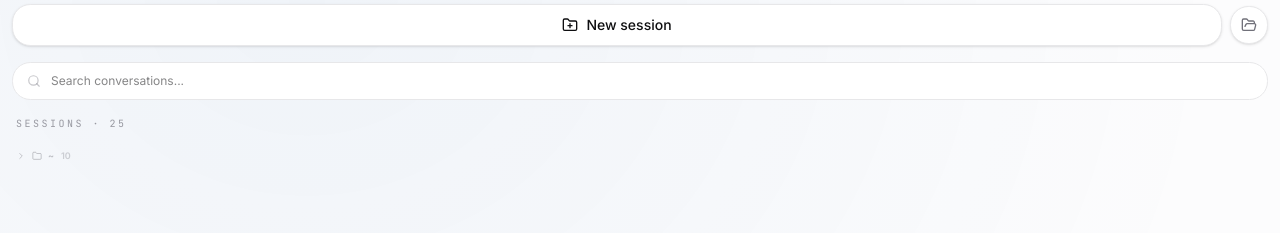
Test case: ConversationSearch — pagination (infinite scroll) › search matches sessions beyond the first page
# 'Session number 20' is past the initial 10, but search scans ALL sessions.
Type "number 20" into the field with placeholder "Search conversations..." at (652, 81), box x1=51 y1=73 x2=1253 y2=89
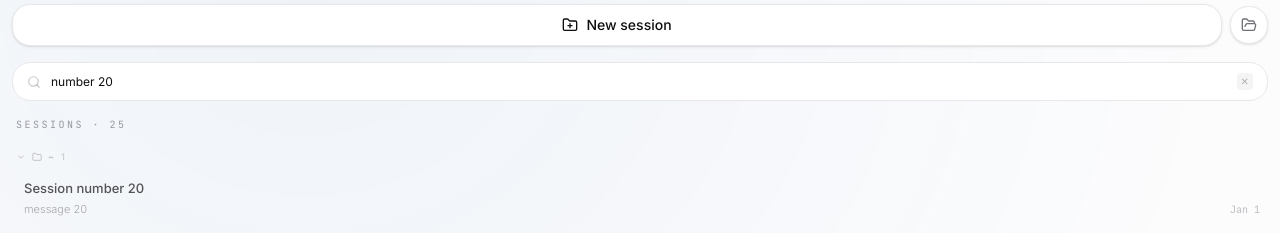
Check: the text "Session number 20" is shown, box x1=24 y1=180 x2=144 y2=197
